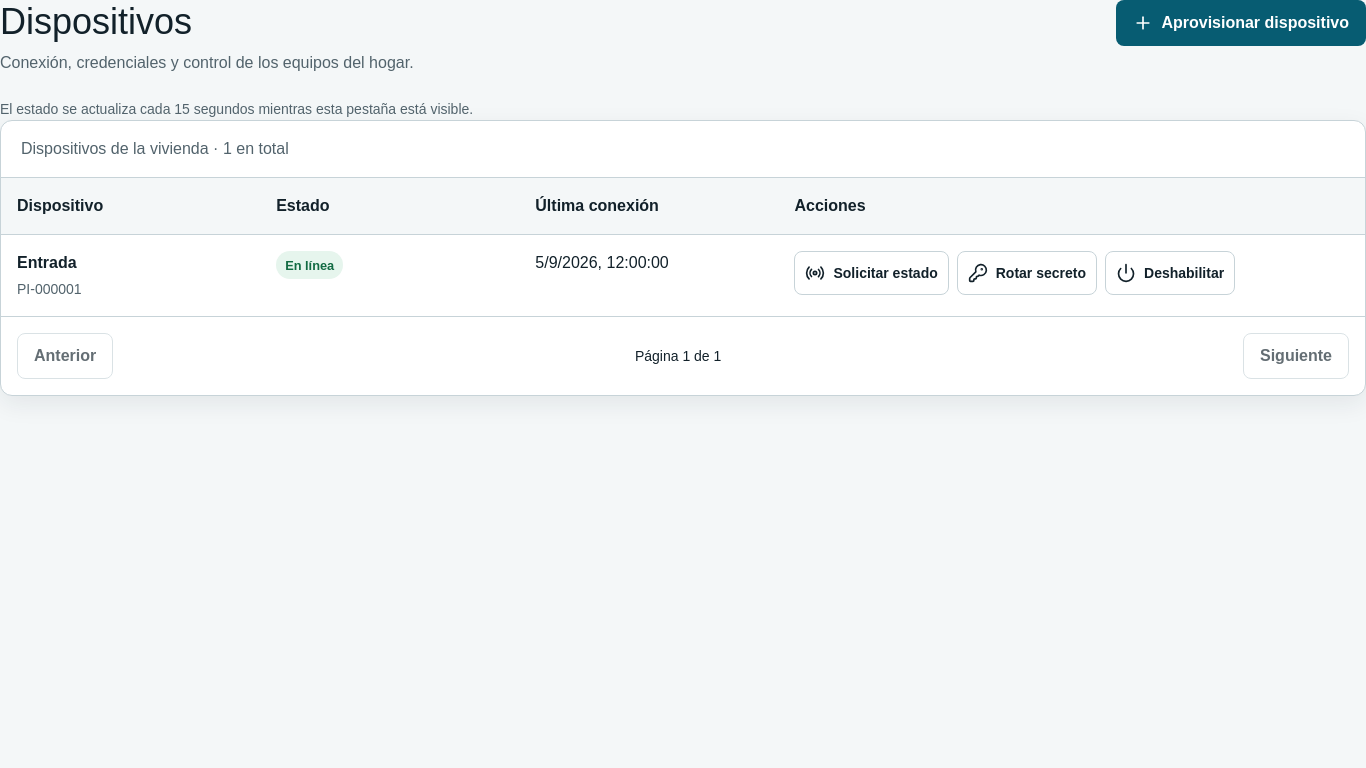
it: Dispositivos › announces lifecycle errors inside the open confirmation and allows retry
The image size is (1366, 768).
Expected: the text "Entrada" is shown, [17, 254, 77, 271]
Click the button with aria-label "Deshabilitar Entrada": (1170, 273) [1105, 251, 1235, 295]
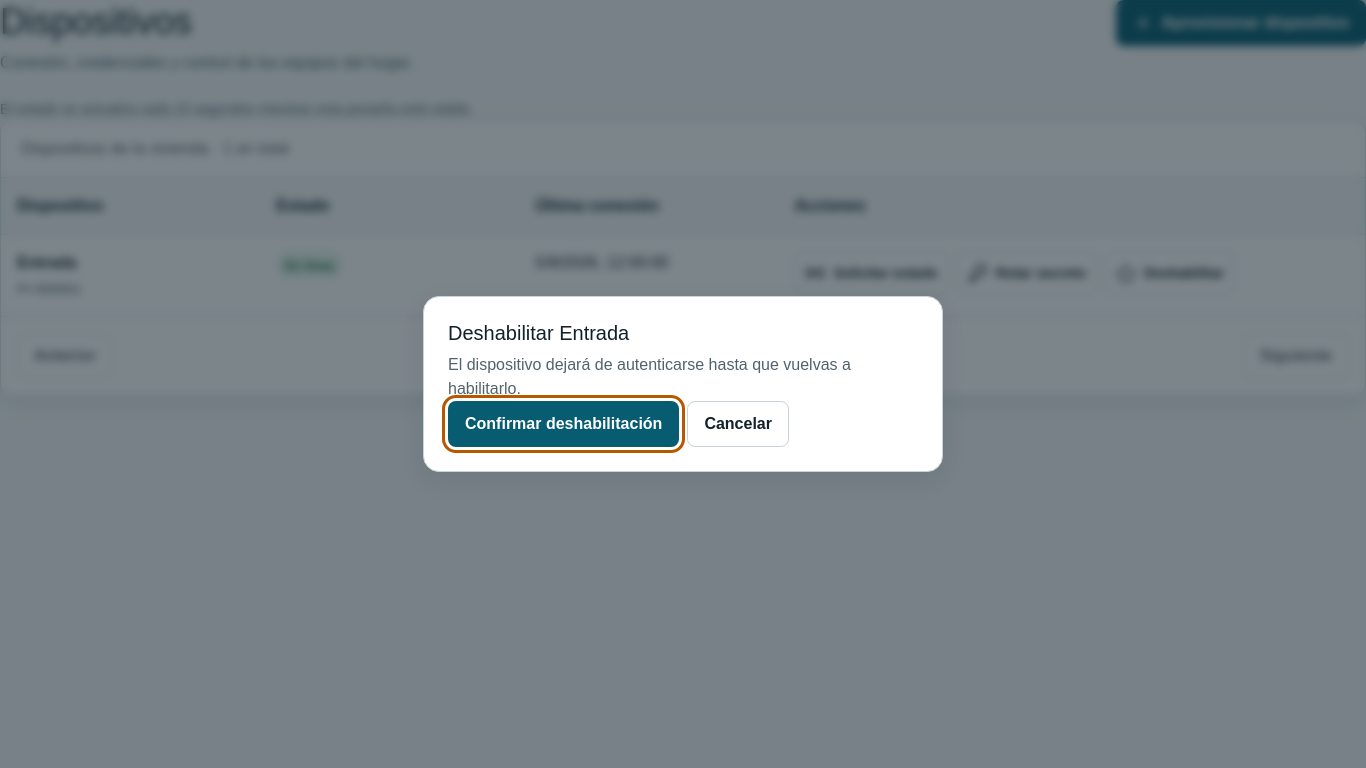
Click the button "Confirmar deshabilitación": (564, 424) [448, 401, 679, 447]
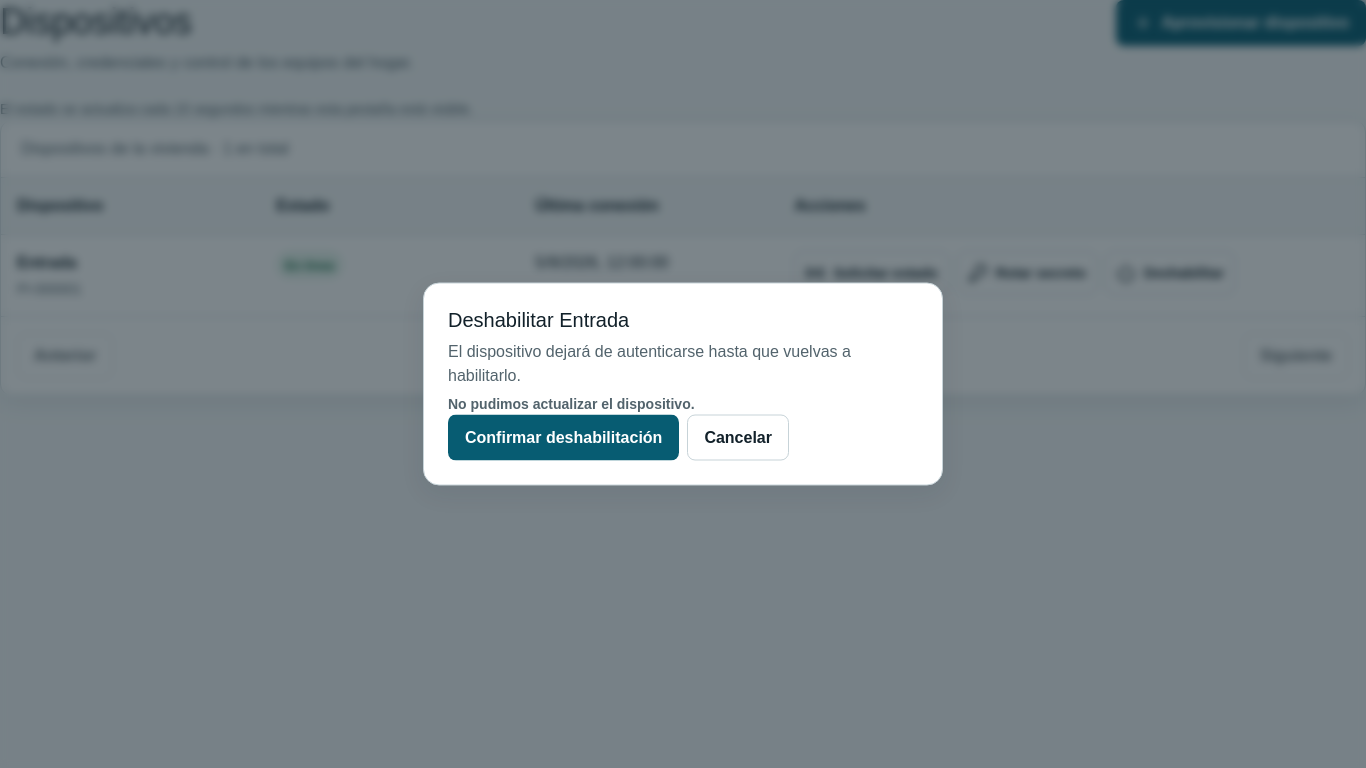
Expected: the button "Cancelar" is enabled, [687, 414, 789, 460]
Expected: the message reads "No pudimos actualizar el dispositivo.", [448, 396, 695, 412]
Click the button "Confirmar deshabilitación": (564, 438) [448, 414, 679, 460]
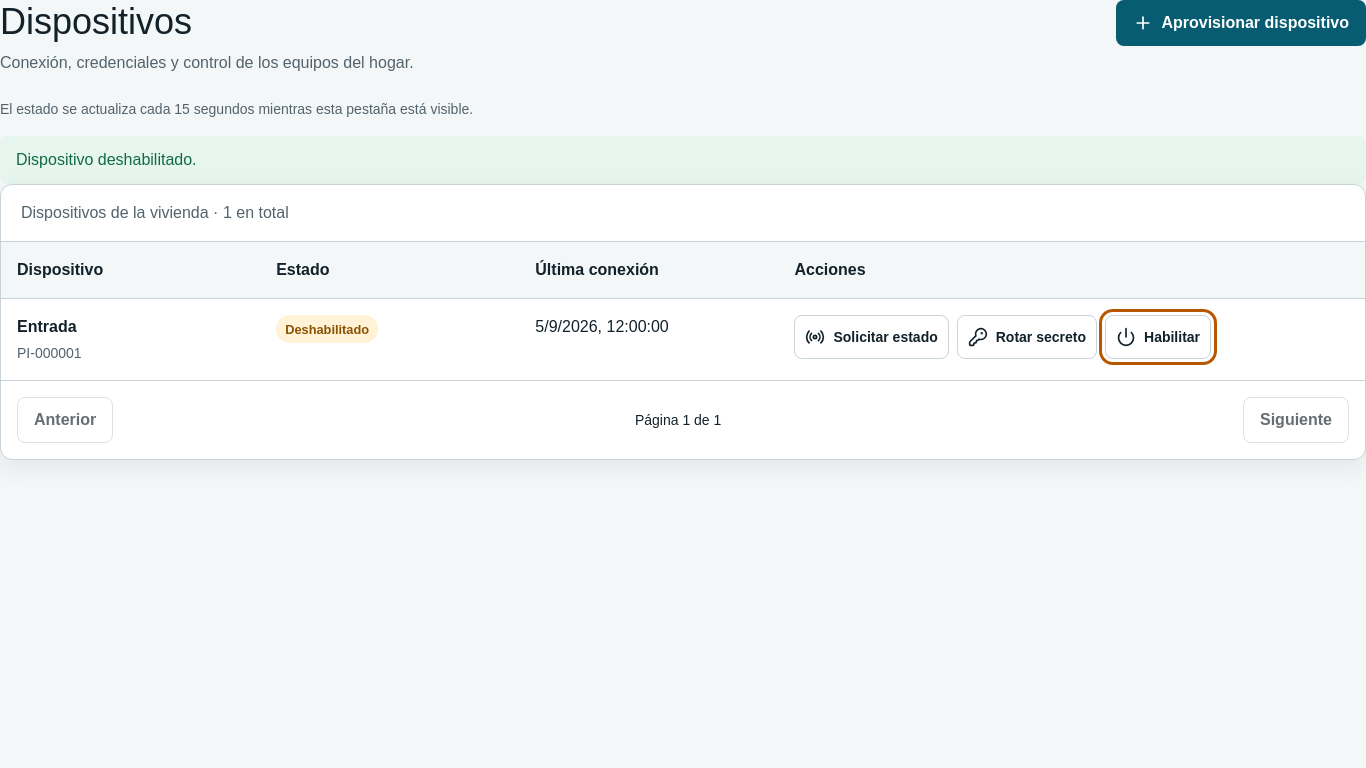
Expected: the text "Dispositivo deshabilitado." is shown, [0, 136, 1365, 184]
Expected: the heading "Deshabilitar Entrada" is gone
